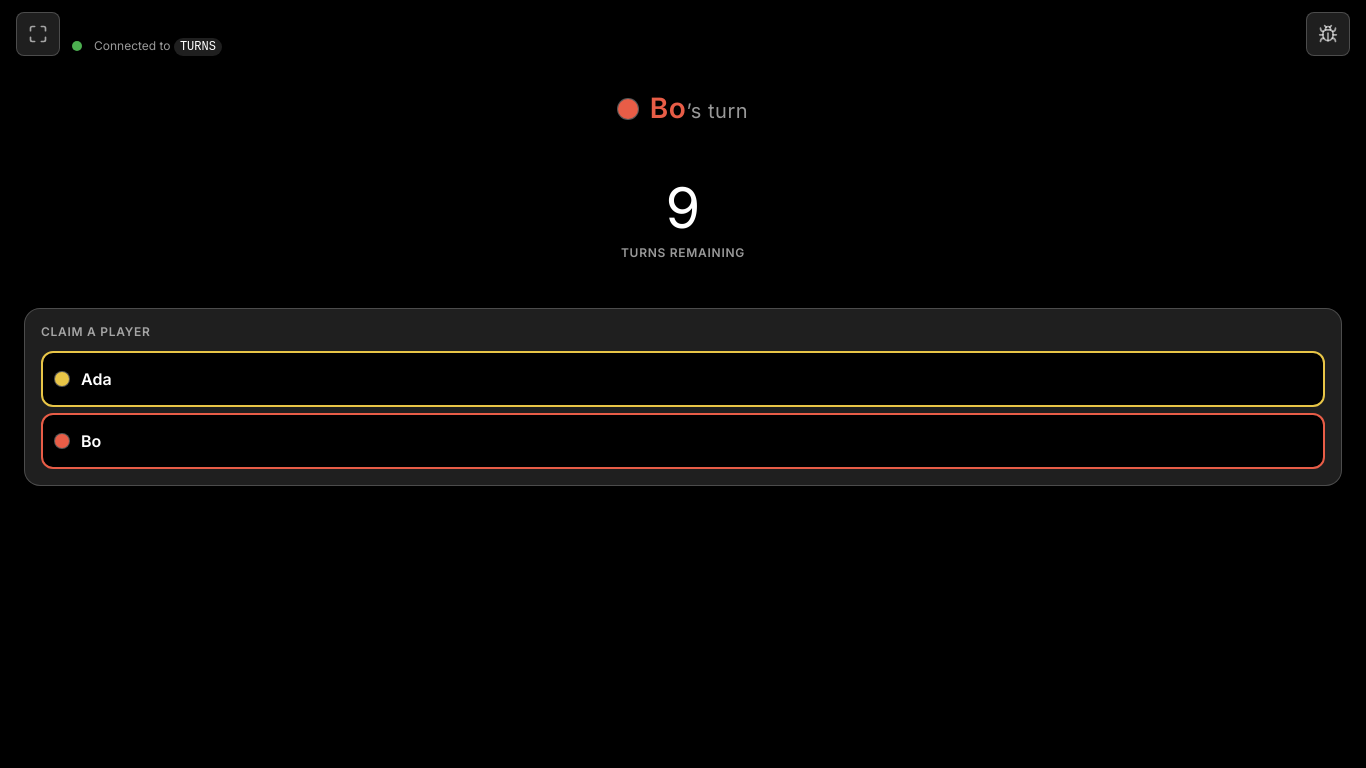
Test: companion turn controls › offers neither Undo nor the clock against a host that does not share them
The width and height of the screenshot is (1366, 768).
Step 1. Click the button "Ada" → (96, 379), box 41,351 -> 1325,407
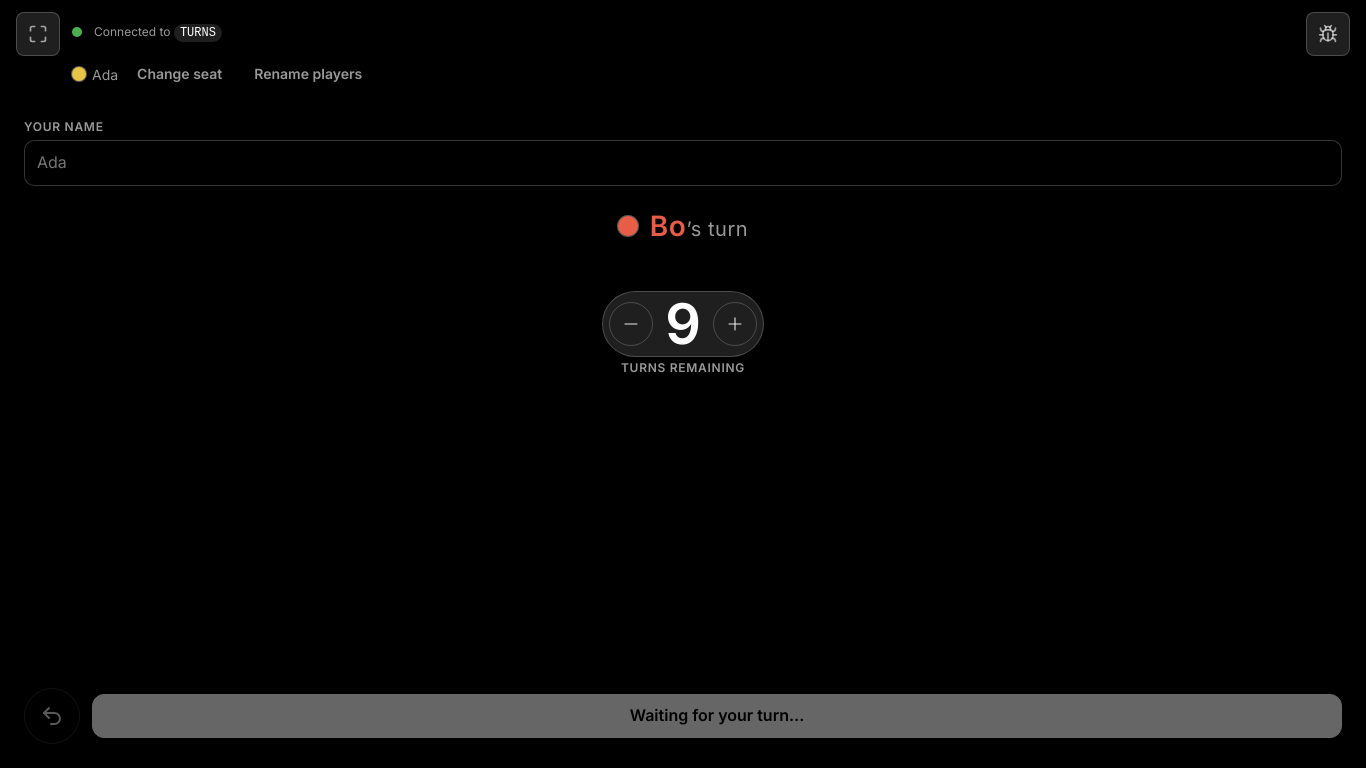
Expected: the button named "Undo" is disabled, 24,688 -> 80,744
